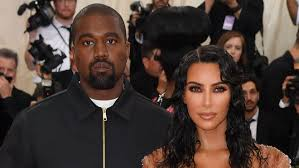middle_eastern_Female: (183, 59, 235, 128)
